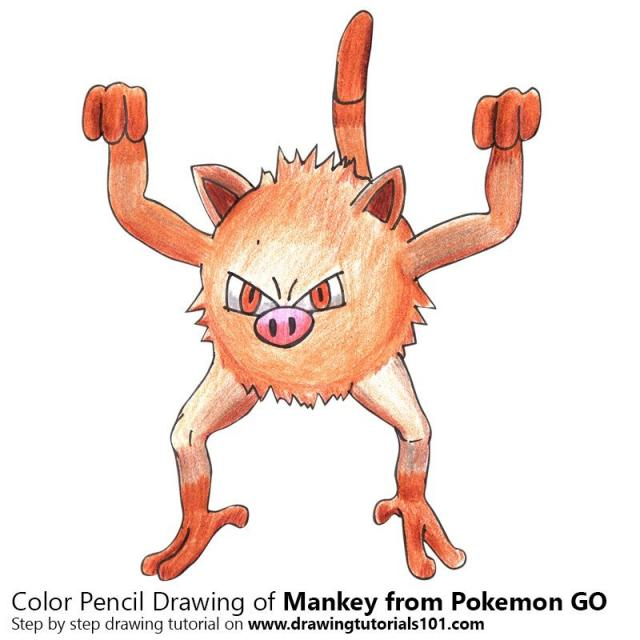Mankey: (111, 63, 542, 564)
